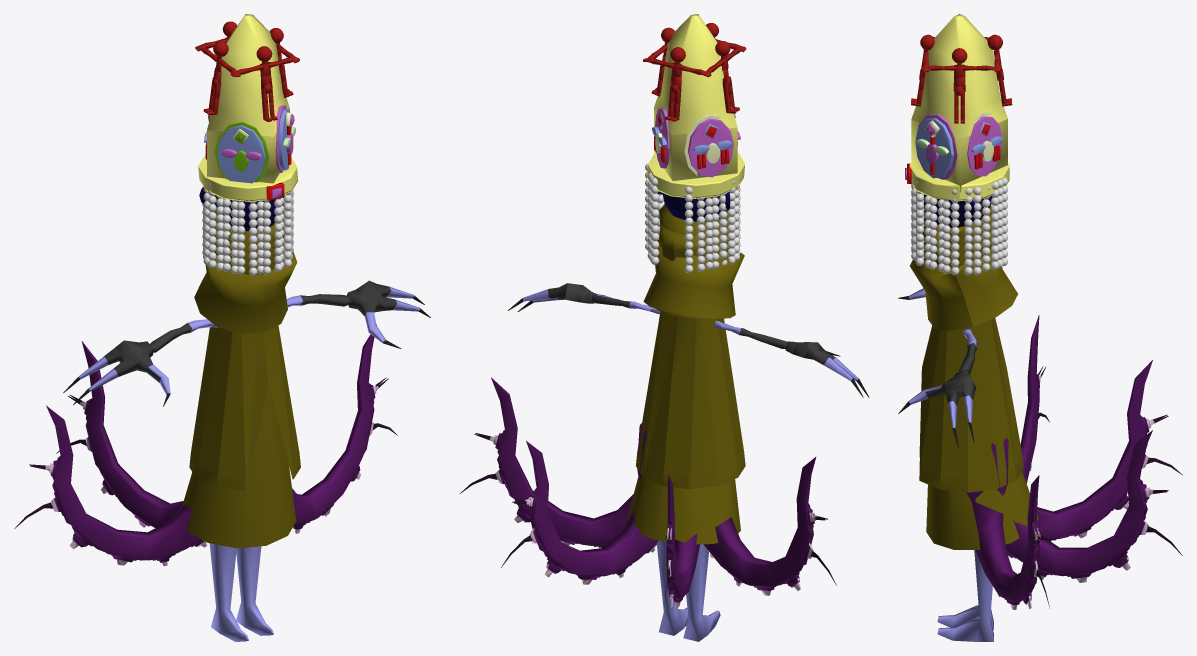
Rendered from esu_hastur.fbx.
3 renders of one model, left to right at view 1: azimuth 30°, elevation 25°; view 2: azimuth 150°, elevation 25°; view 3: azimuth 270°, elevation 25°, orthographic.
Visible parts, largest first — view 1: mesh01, mesh02, mesh08, mesh05, mesh11, mesh10, mesh12, mesh19, mesh03, mesh07, mesh04, mesh562 (+5 smaller); view 2: mesh01, mesh05, mesh13, mesh11, mesh02, mesh10, mesh08, mesh12, mesh562, mesh07, mesh19, mesh03 (+6 smaller); view 3: mesh01, mesh05, mesh13, mesh11, mesh12, mesh10, mesh02, mesh03, mesh08, mesh562, mesh04, mesh105 (+3 smaller).
Boxes of the visible parts, box(x1,y1,x2,y2) form: mesh01: box(189, 325, 300, 490); mesh02: box(182, 383, 296, 548); mesh08: box(14, 405, 207, 566); mesh05: box(207, 14, 289, 183); mesh11: box(194, 210, 297, 333); mesh10: box(292, 324, 397, 533); mesh12: box(56, 341, 183, 527); mesh19: box(63, 319, 217, 406); mesh03: box(286, 280, 430, 348); mesh07: box(209, 543, 248, 641); mesh04: box(236, 546, 273, 635); mesh562: box(198, 155, 298, 201); mesh01: box(636, 223, 745, 489); mesh05: box(654, 14, 737, 180); mesh13: box(501, 423, 658, 584); mesh11: box(643, 204, 744, 318); mesh02: box(626, 476, 740, 544); mesh10: box(460, 377, 646, 548); mesh08: box(703, 457, 836, 595); mesh12: box(664, 475, 700, 607); mesh562: box(647, 153, 744, 198); mesh07: box(683, 544, 720, 641); mesh19: box(714, 320, 869, 397); mesh03: box(508, 283, 660, 314); mesh01: box(919, 229, 1023, 492); mesh05: box(911, 14, 1007, 192); mesh13: box(991, 430, 1182, 582); mesh11: box(910, 206, 1017, 330); mesh12: box(1037, 360, 1182, 541); mesh10: box(966, 437, 1049, 609); mesh02: box(926, 472, 1038, 549); mesh03: box(898, 329, 977, 448); mesh08: box(1020, 315, 1049, 483); mesh562: box(909, 163, 1009, 201); mesh04: box(937, 550, 993, 641); mesh105: box(915, 118, 954, 178).
Bounding box in the file's own units: 126 × 194 × 81.13.
